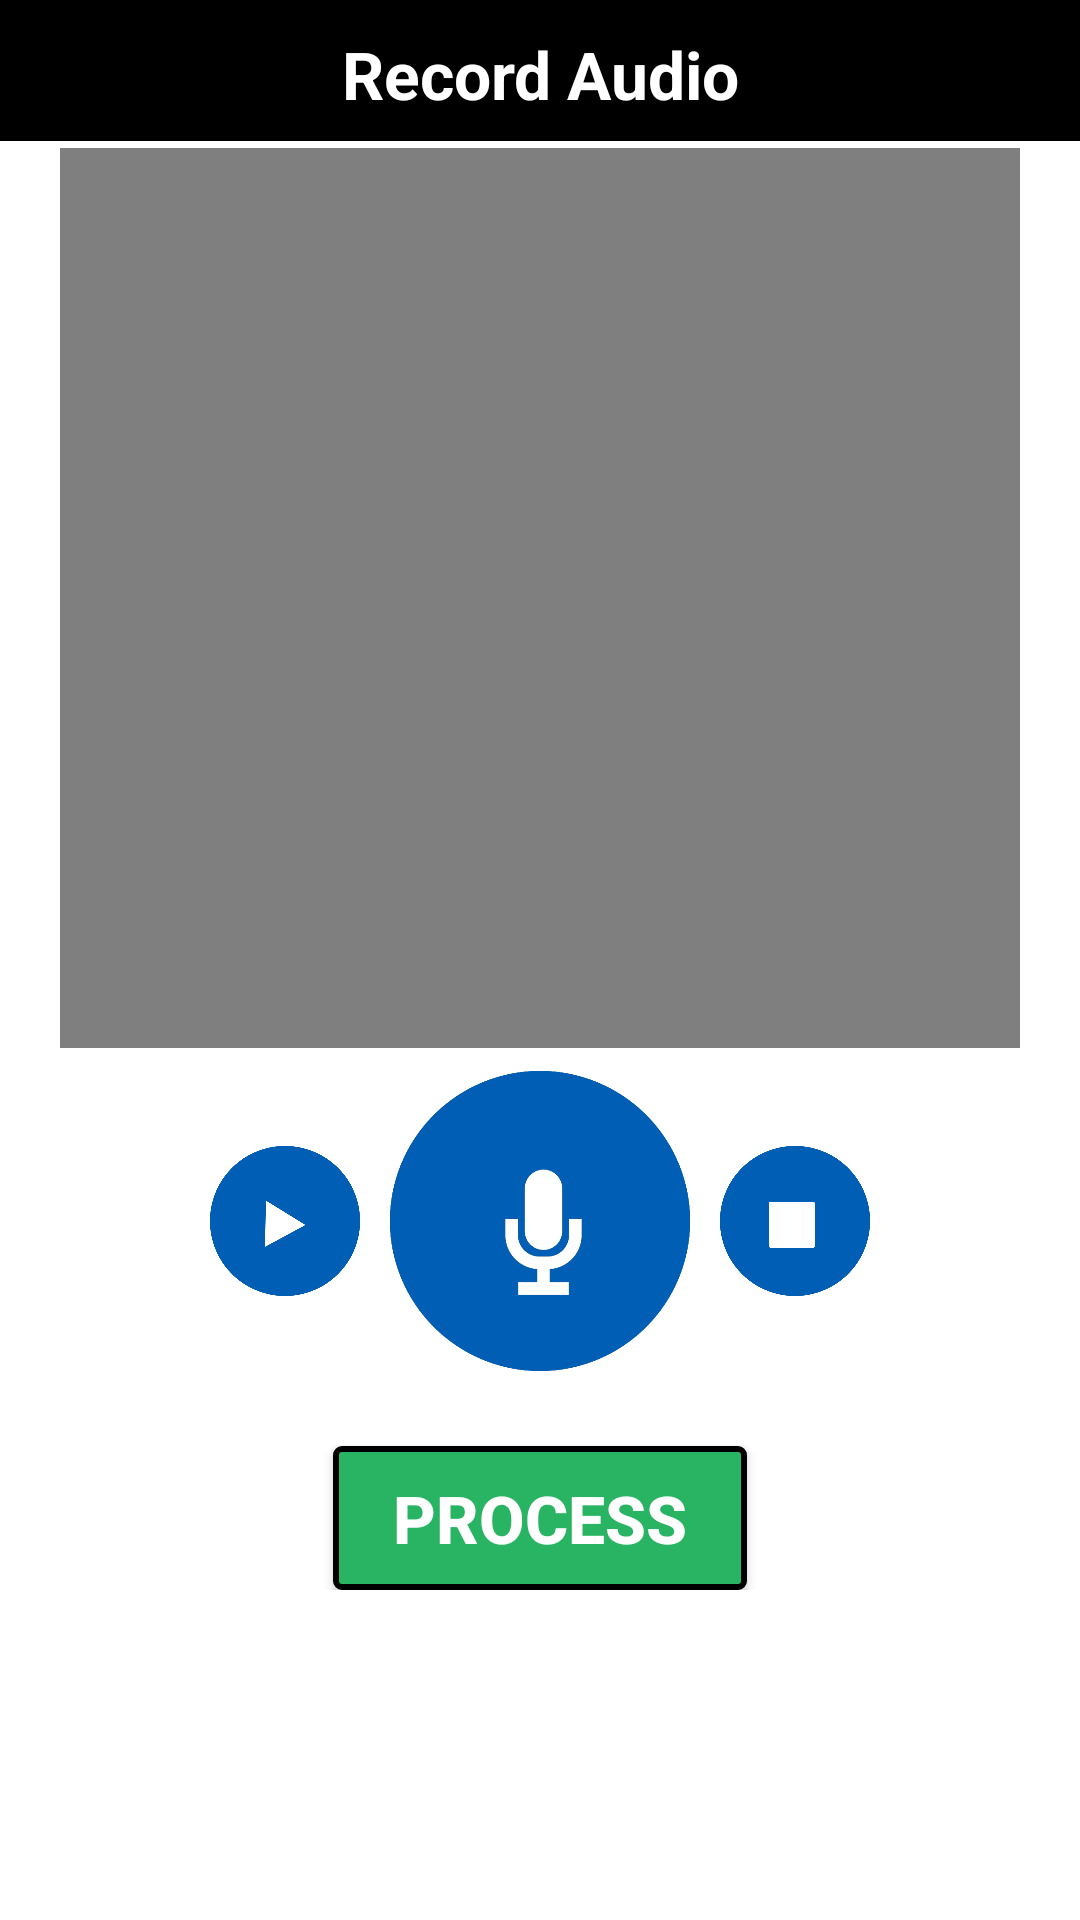

Where icons sit on this 1080 x 1920 app screen, as (x1, y1, x2, y2):
play: (210, 1146, 360, 1296)
record: (390, 1071, 690, 1371)
stop: (720, 1146, 870, 1296)
